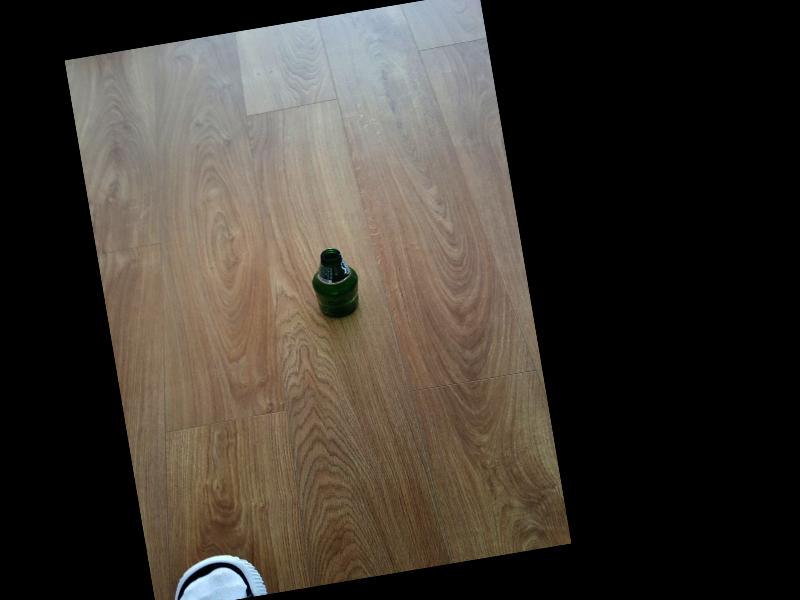Beer: (304, 245, 362, 322)
